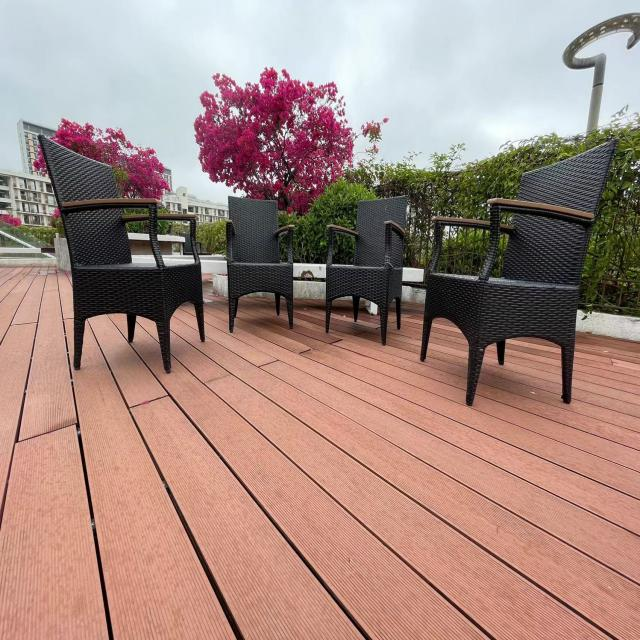chair: (417, 142, 610, 416), (36, 125, 207, 376), (320, 194, 407, 350), (221, 186, 299, 334)
